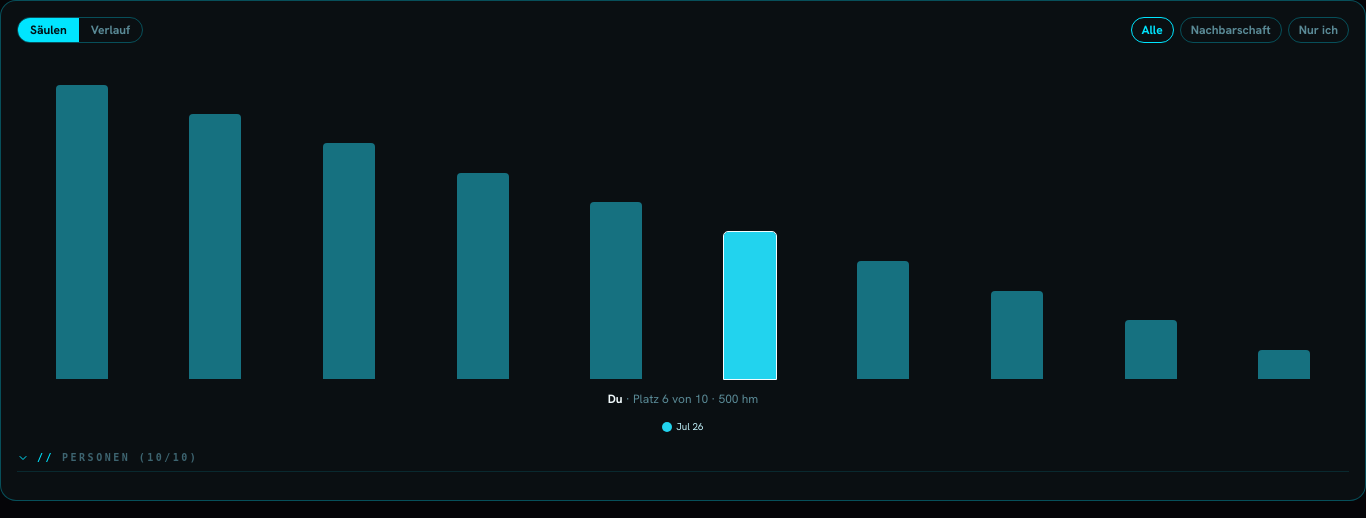
Hoehenmeter › schaltet über "Nur ich" auf die eigene Säule
This screenshot has width=1366, height=518.
Check: the text "Du · Platz 6 von 10 · 500 hm" is shown, box [608,391,758,407]
Click the button "Nur ich": (1318, 30) [1288,17,1349,43]
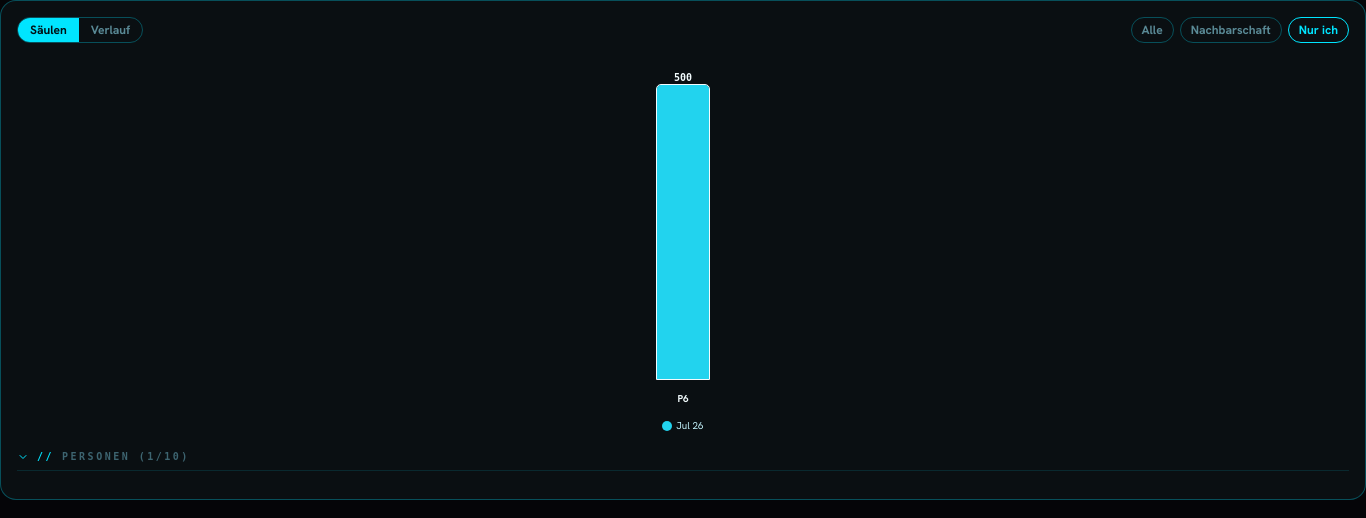
Check: the button "// Personen (1/10)" is shown, box [17,449,1349,471]
